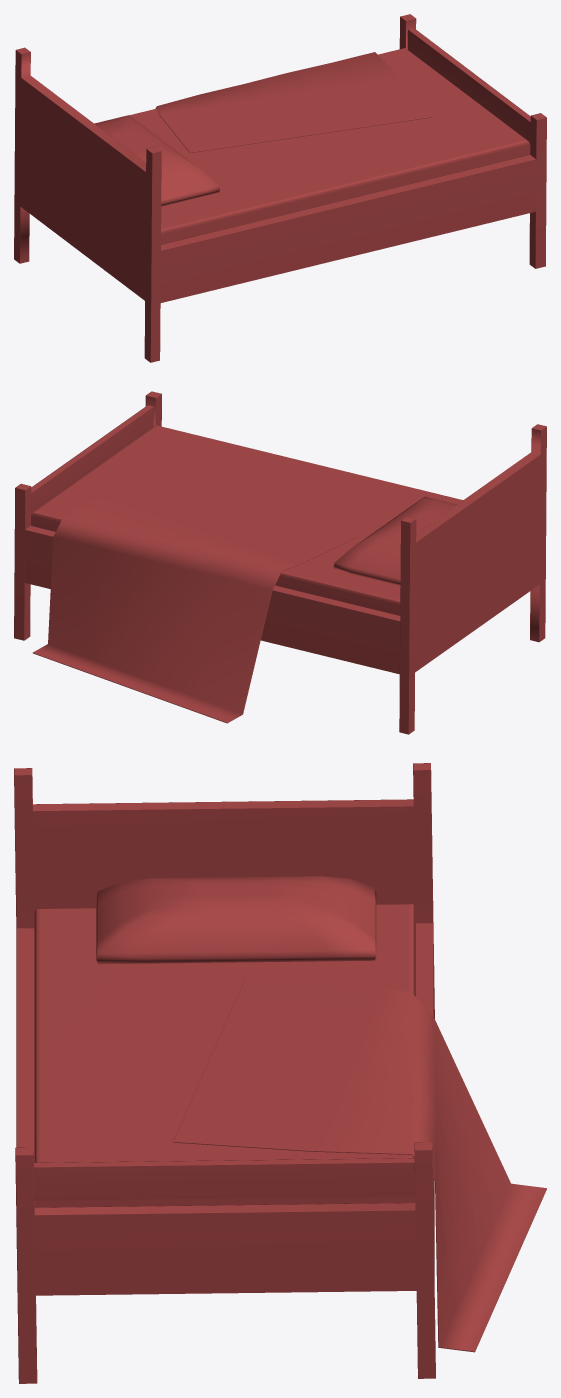
File: UV Set 12 (Bed).fbx
The picture shows the model from 3 angles, top to bottom: view 1: azimuth 30°, elevation 25°; view 2: azimuth 150°, elevation 25°; view 3: azimuth 270°, elevation 25°; orthographic projection. The views are drawn at different scales.
Parts seen in each view (by area): view 1: Bed, Mattress, Blanky, Pillow, Wooden_Bar; view 2: Blanky, Bed, Mattress, Pillow, Wooden_Bar; view 3: Bed, Blanky, Mattress, Pillow, Wooden_Bar.
Boxes of the visible parts, x1,y1,x2,y2 form: Bed: (14, 14, 546, 362); Mattress: (130, 48, 530, 244); Blanky: (155, 52, 431, 153); Pillow: (94, 115, 219, 206); Wooden_Bar: (407, 28, 530, 143); Blanky: (32, 466, 357, 723); Bed: (14, 391, 546, 734); Mattress: (31, 425, 462, 615); Pillow: (333, 496, 456, 585); Wooden_Bar: (31, 405, 153, 514); Bed: (14, 763, 435, 1383); Blanky: (173, 978, 546, 1352); Mattress: (34, 904, 415, 1207); Pillow: (96, 876, 376, 964); Wooden_Bar: (34, 1158, 415, 1200).
Bounding box in the file's own units: 228 × 118 × 175.
